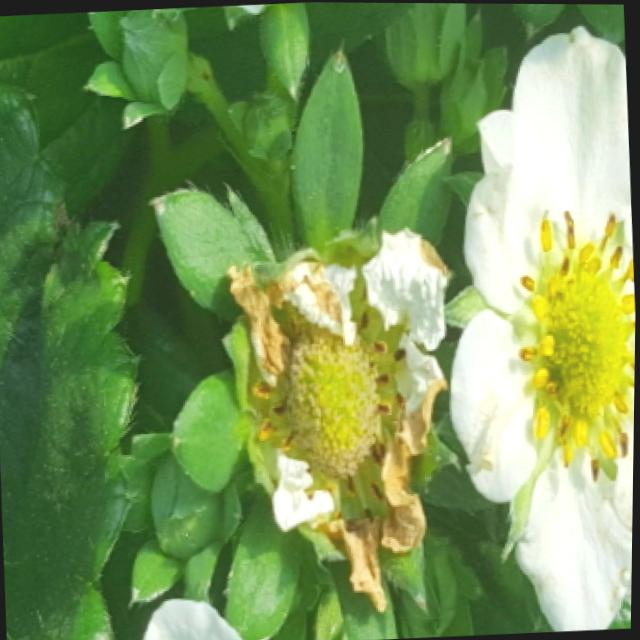Blossom Blight: (248, 283, 415, 528), (515, 206, 636, 485)
